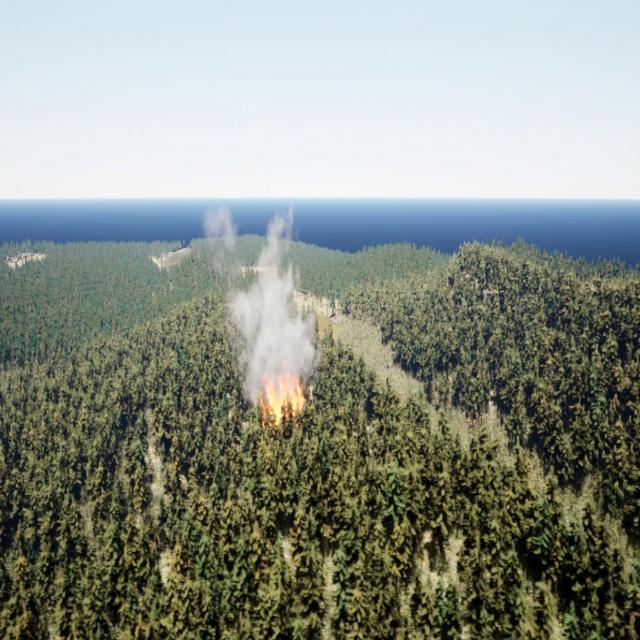fire: (264, 373, 308, 426)
smoke: (201, 193, 316, 404)
